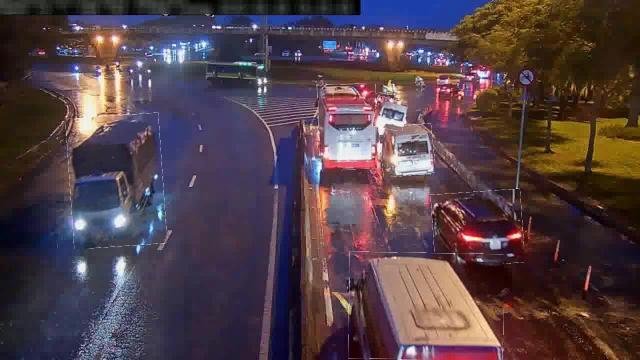Bus: (348, 252, 504, 360), (319, 84, 377, 170), (380, 124, 434, 176), (374, 98, 406, 130)
Car: (432, 190, 524, 266)
Truck: (68, 114, 164, 248)
